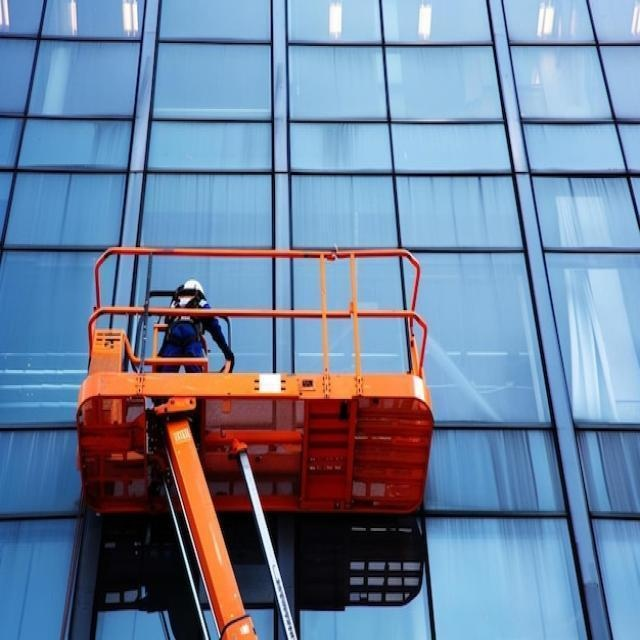Arnes_seguridad: (161, 298, 204, 346)
